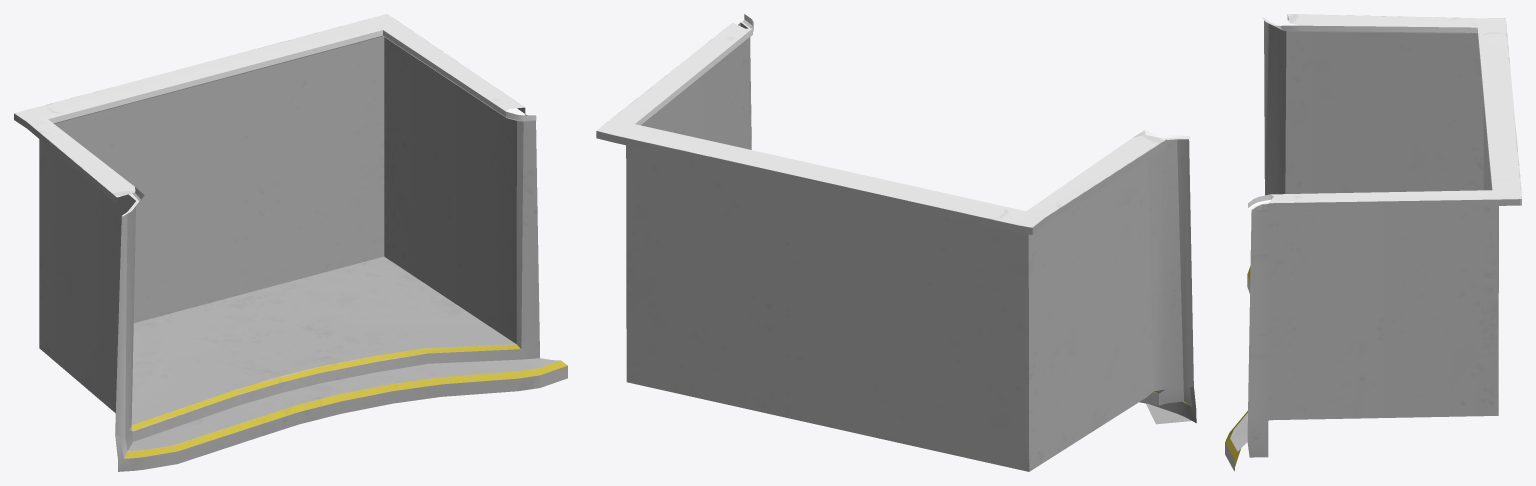
The model's file is shopRoom00.fbx.
3 views of the same model, side by side, from view 1: azimuth 30°, elevation 25°; view 2: azimuth 150°, elevation 25°; view 3: azimuth 270°, elevation 25° (orthographic). The views are drawn at different scales.
Parts seen in each view (by area): view 1: Shop Room V2; view 2: Shop Room V2; view 3: Shop Room V2.
Boxes of the visible parts, bbox=[...] form: Shop Room V2: bbox=[14, 14, 567, 471]; Shop Room V2: bbox=[596, 14, 1196, 471]; Shop Room V2: bbox=[1225, 14, 1521, 471].
Size of the model in its own units: 20.15 by 11.66 by 12.2.
